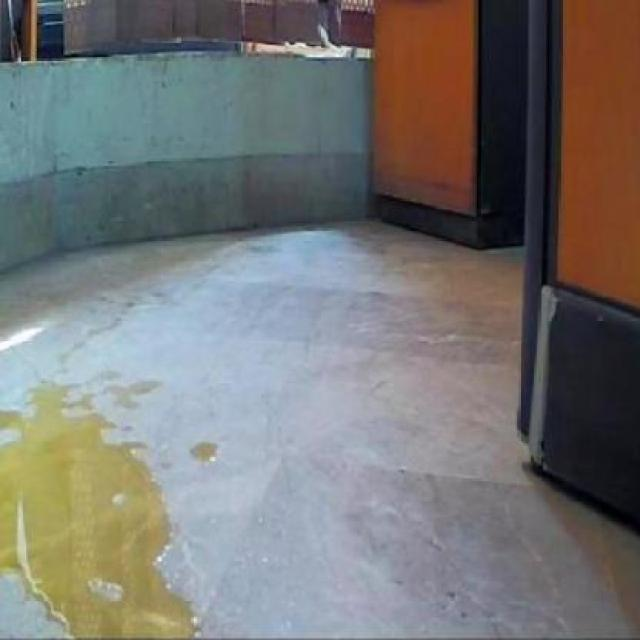spillage: (0, 385, 194, 637)
